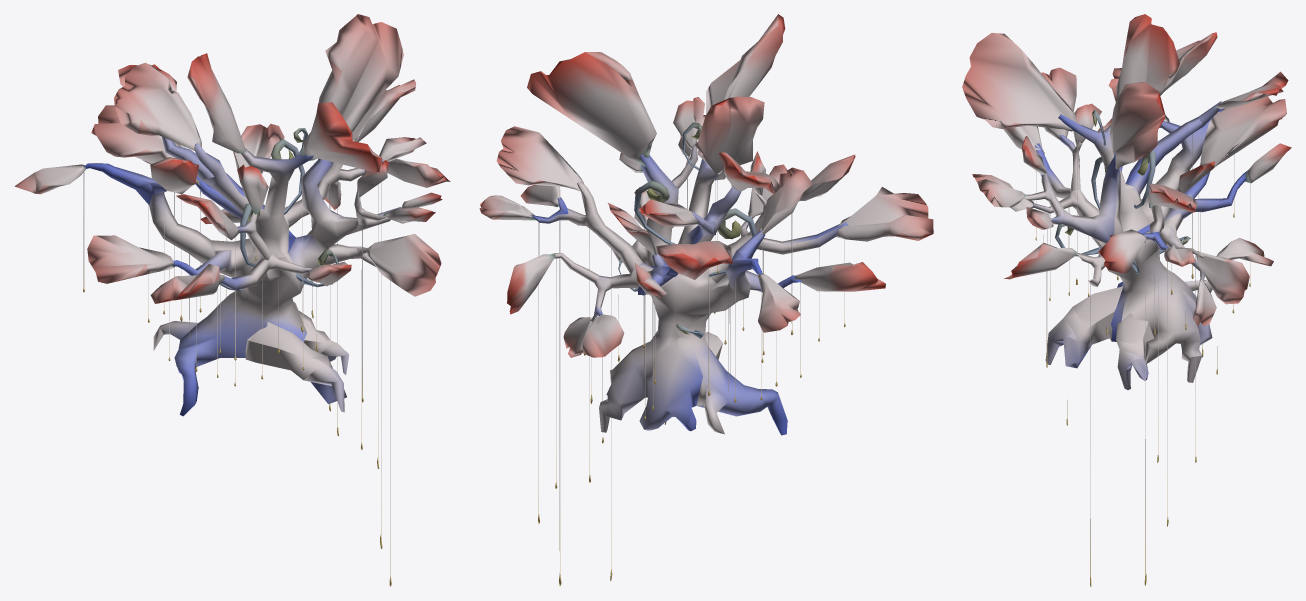
File: bodhiTree_01.gltf
3 views of the same model, side by side, from view 1: azimuth 30°, elevation 25°; view 2: azimuth 150°, elevation 25°; view 3: azimuth 270°, elevation 25° (orthographic). The views are drawn at different scales.
Parts seen in each view (by area): view 1: bodhi_Tree_petals, polySurface617, polySurface619, polySurface612, bodhi_Tree_dropplets, bodhi_tree_swirls, polySurface620; view 2: bodhi_Tree_petals, polySurface617, polySurface619, bodhi_Tree_dropplets, bodhi_tree_swirls; view 3: bodhi_Tree_petals, polySurface617, polySurface619, polySurface612, bodhi_Tree_dropplets, polySurface620, bodhi_tree_swirls.
Boxes of the visible parts, bbox=[...] form: bodhi_Tree_petals: bbox=[14, 14, 450, 303]; polySurface617: bbox=[83, 137, 401, 305]; polySurface619: bbox=[153, 288, 315, 416]; polySurface612: bbox=[245, 322, 346, 412]; bodhi_Tree_dropplets: bbox=[83, 165, 391, 586]; bodhi_tree_swirls: bbox=[220, 128, 338, 291]; polySurface620: bbox=[303, 323, 349, 374]; bodhi_Tree_petals: bbox=[479, 14, 933, 357]; polySurface617: bbox=[531, 143, 848, 323]; polySurface619: bbox=[599, 319, 787, 435]; bodhi_Tree_dropplets: bbox=[538, 178, 845, 586]; bodhi_tree_swirls: bbox=[618, 122, 756, 338]; bodhi_Tree_petals: bbox=[962, 14, 1291, 325]; polySurface617: bbox=[1022, 101, 1247, 286]; polySurface619: bbox=[1109, 261, 1212, 382]; polySurface612: bbox=[1045, 286, 1123, 368]; bodhi_Tree_dropplets: bbox=[1035, 133, 1250, 586]; polySurface620: bbox=[1116, 313, 1154, 389]; bodhi_tree_swirls: bbox=[1055, 109, 1190, 273].
Size of the model in its own units: 60.46 by 87.3 by 51.76.
1 material, 1 textured.
